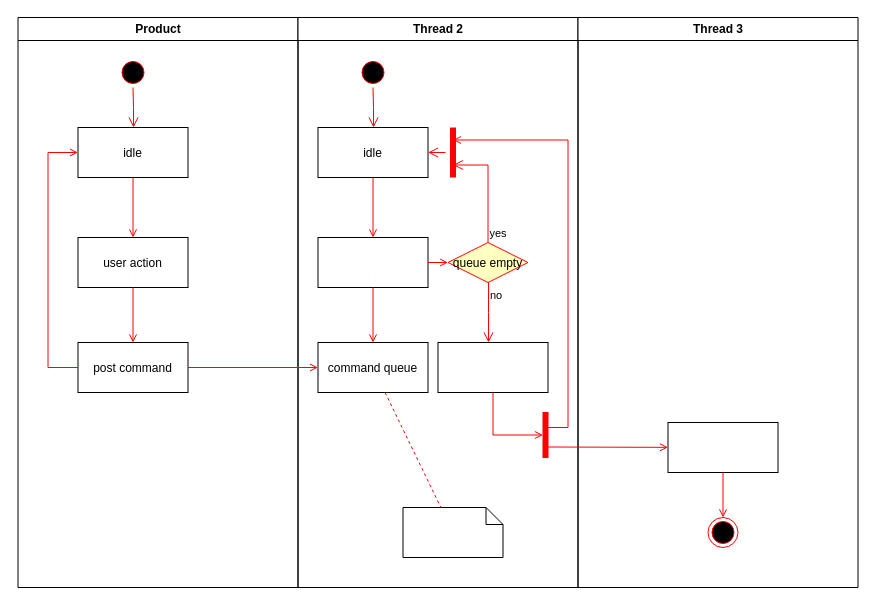
This 875x605 diagram has some shape labels left out. Each missing label, with the centre of its shape:
"check for new commands" belongs at point 372,262.
"critical section" belongs at point 452,532.
"dispatch command worker thread" belongs at point 492,367.
"process command" belongs at point 722,447.
